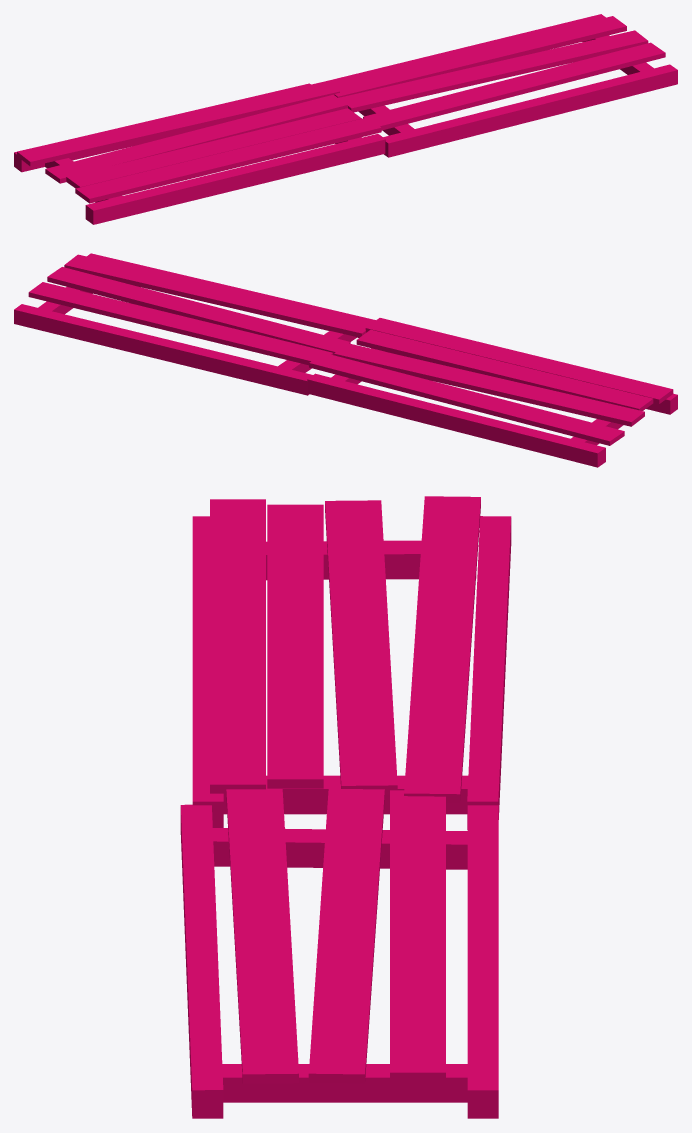
The model's file is Bastion_Floor_05_Lod0.fbx.
3 views of the same model, one above another, from view 1: azimuth 30°, elevation 25°; view 2: azimuth 150°, elevation 25°; view 3: azimuth 270°, elevation 25° (orthographic). The views are drawn at different scales.
Parts seen in each view (by area): view 1: Bastion_Floor_05_Lod0; view 2: Bastion_Floor_05_Lod0; view 3: Bastion_Floor_05_Lod0.
Part boxes in pixels (box(x1,y1,x2,y2)): Bastion_Floor_05_Lod0: box(14, 14, 677, 224); Bastion_Floor_05_Lod0: box(14, 253, 677, 467); Bastion_Floor_05_Lod0: box(180, 496, 511, 1118).
Bounding box in the file's own units: 604 × 24.13 × 147.
